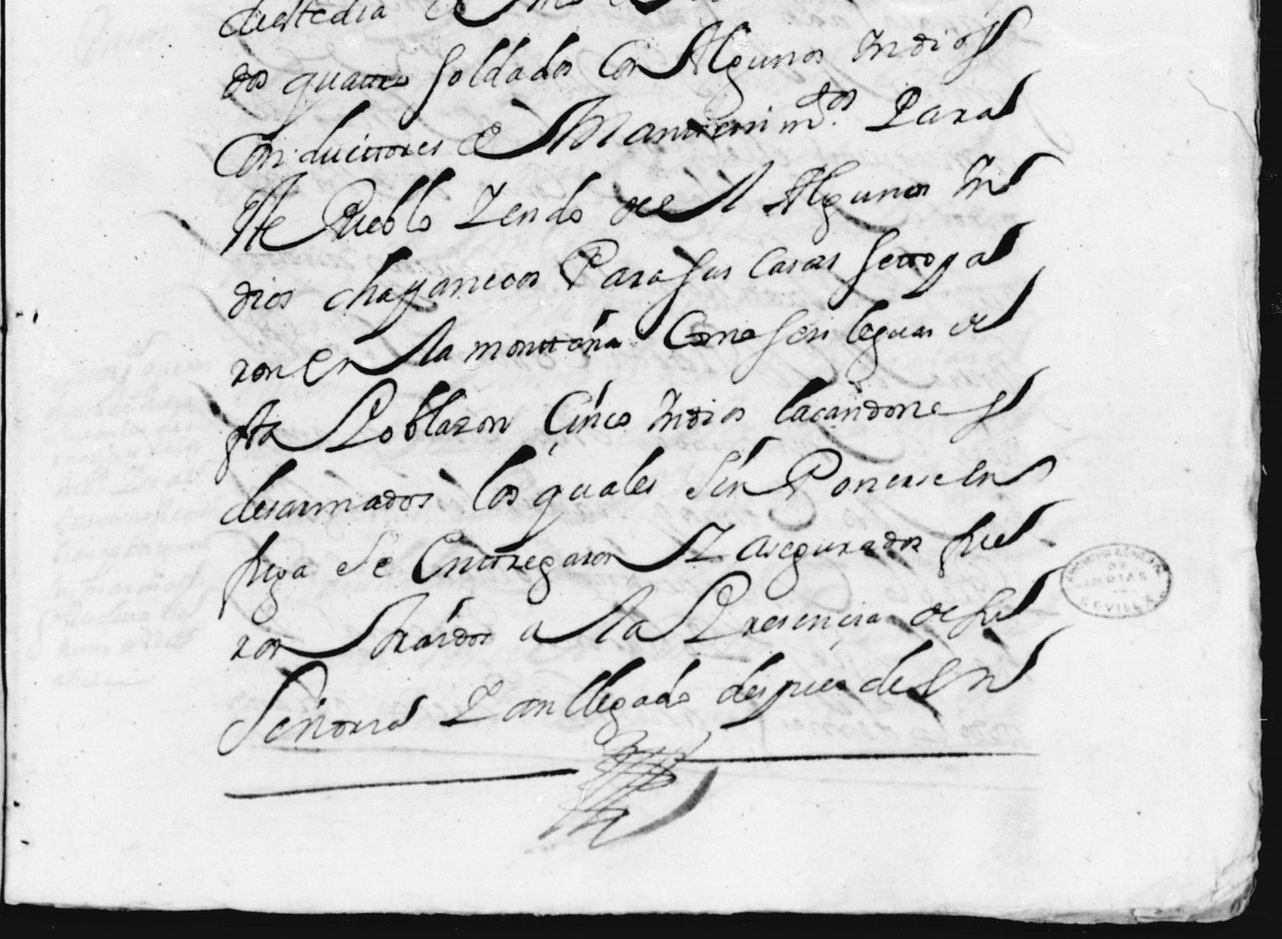lacandon: (774, 366, 1049, 443)
